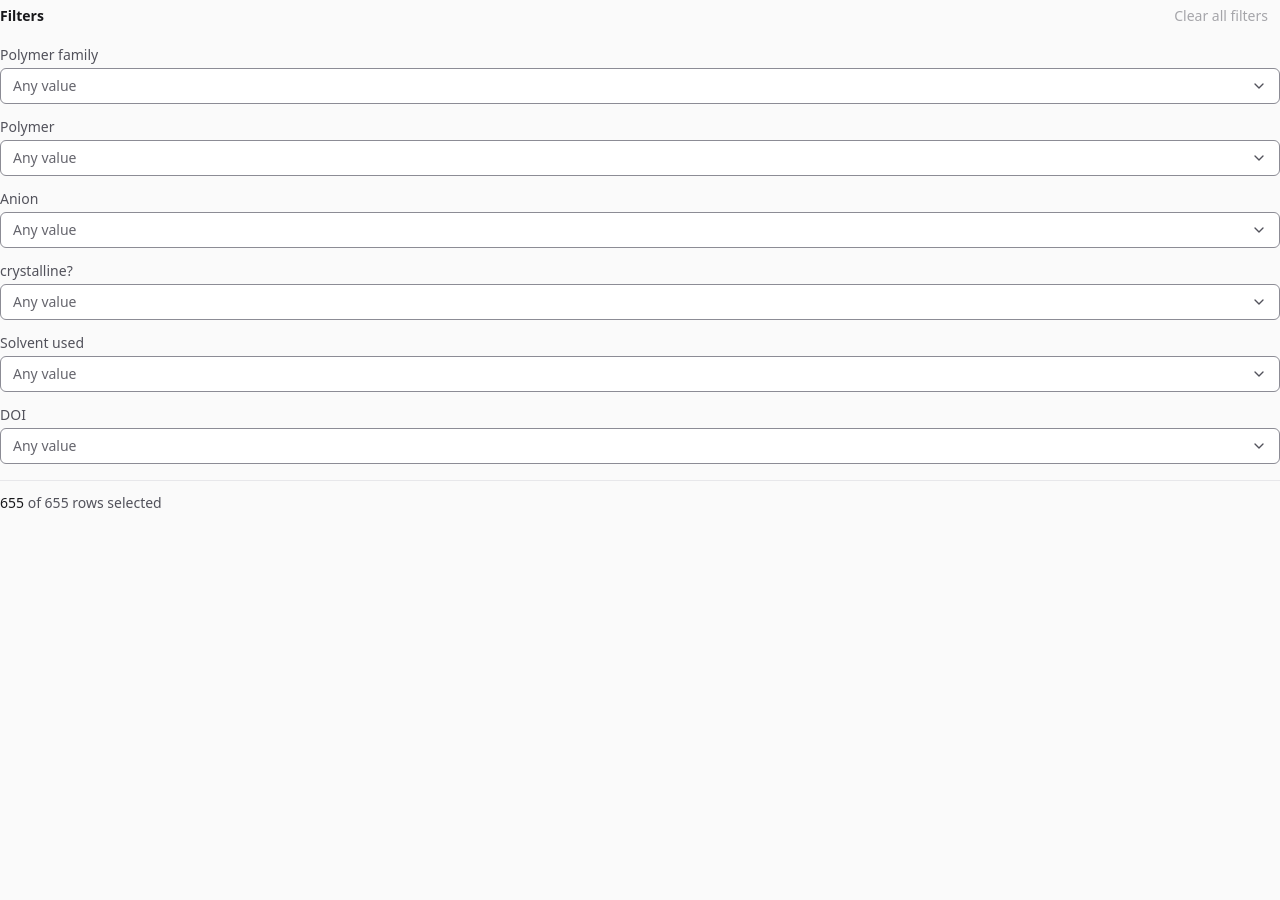
FilterPanel › shortens DOI values for display without changing what gets selected
Click the dropdown named "DOI": point(45, 446) [0,428,1279,464]
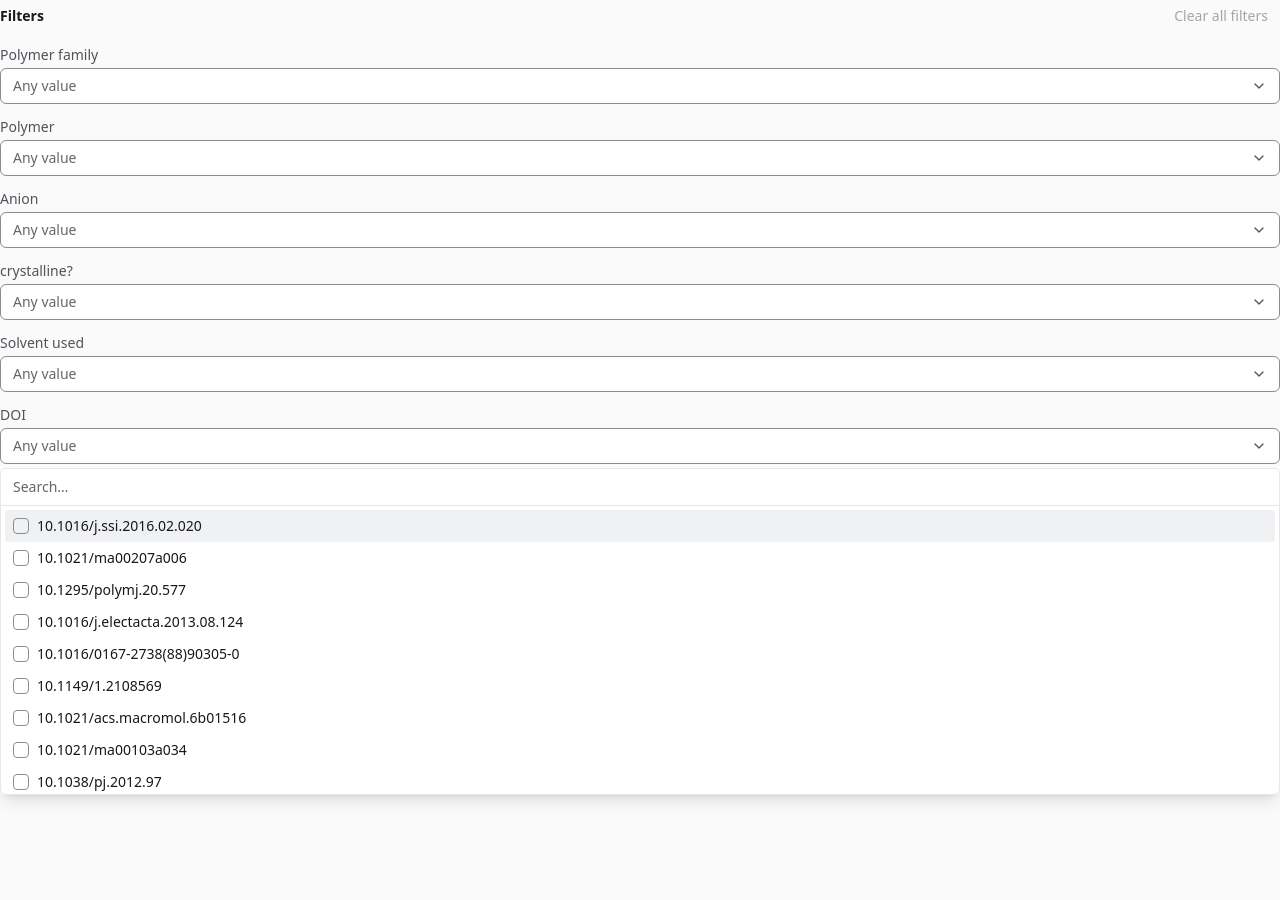
Check: the option "10.1016/j.ssi.2016.02.020" is shown, box [5,510,1275,542]
